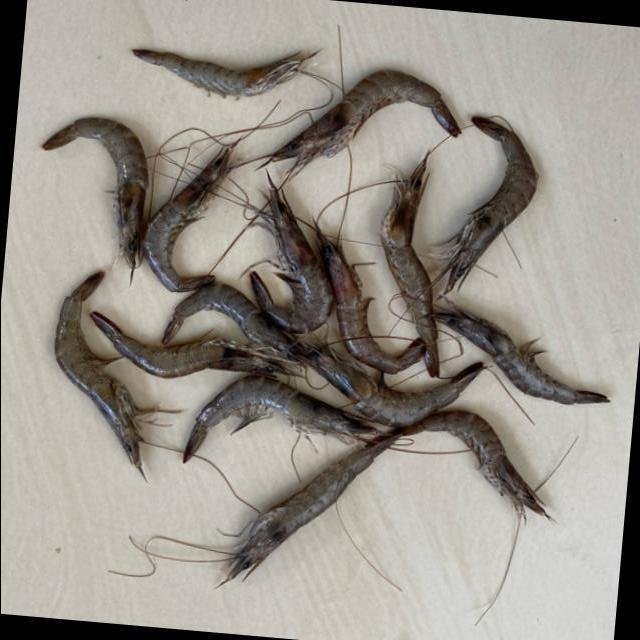shrimp: (219, 432, 400, 587), (268, 69, 460, 178), (53, 272, 143, 479), (432, 299, 609, 404), (183, 376, 377, 463), (403, 410, 553, 522), (315, 223, 424, 375), (293, 339, 483, 426), (40, 117, 147, 271), (446, 116, 537, 291), (141, 142, 235, 292), (89, 312, 295, 377), (250, 174, 333, 332), (380, 151, 438, 377), (161, 284, 300, 361), (131, 48, 317, 96)
